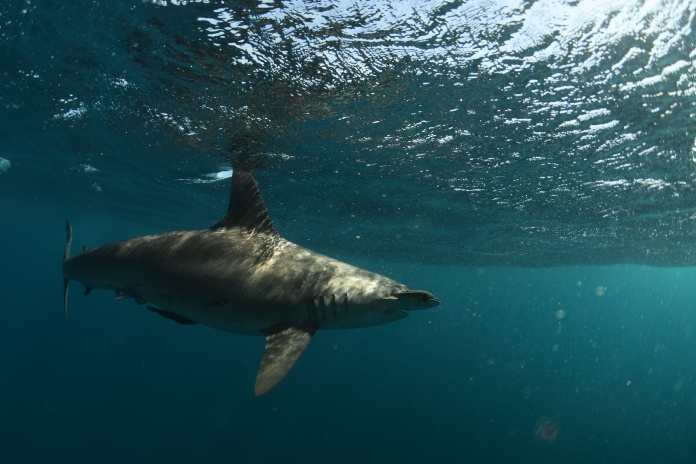Hammer: (45, 115, 474, 407)
